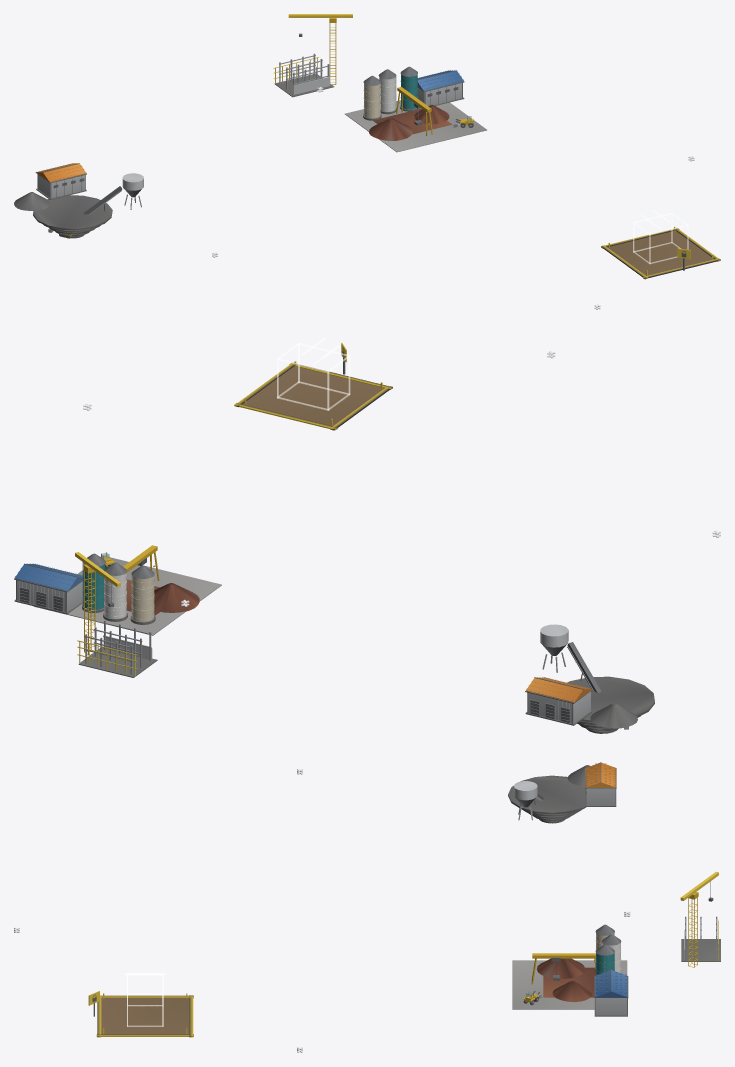
The model's file is Sites_P2.fbx.
3 renders of one model, top to bottom at view 1: azimuth 30°, elevation 25°; view 2: azimuth 150°, elevation 25°; view 3: azimuth 270°, elevation 25°, orthographic. The views are drawn at different scales.
Parts seen in each view (by area): view 1: Site.plant.Pad, Site.Store.Yard, Site.Quarry.Benches, Site.Construction, Site.Quarry.Shed, Site.Store.Shed, Site.Store.Silo0, Site.Store.Pile0, Site.Store.Silo1, Site.plant.Ghost, Site.Crane, Site.Store.Silo2 (+3 smaller); view 2: Site.plant.Pad, Site.Store.Shed, Site.Construction, Site.Quarry.Shed, Site.Store.Yard, Site.Quarry.Benches, Site.Store.Silo0, Site.Store.Silo1, Site.plant.Ghost, Site.Store.Pile0, Site.Crane, Site.Store.Silo2 (+2 smaller); view 3: Site.plant.Pad, Site.Store.Yard, Site.Quarry.Benches, Site.Store.Shed, Site.Quarry.Shed, Site.Construction, Site.Crane, Site.Store.Pile0, Site.Store.Pile1, Site.Quarry.Hopper, Site.Store.Gantry, Site.Store.Silo2.
Boxes of the visible parts, x1=… form: Site.plant.Pad: x1=601, y1=226, x2=720, y2=279; Site.Store.Yard: x1=345, y1=100, x2=486, y2=152; Site.Quarry.Benches: x1=33, y1=195, x2=112, y2=238; Site.Construction: x1=273, y1=53, x2=334, y2=97; Site.Quarry.Shed: x1=35, y1=163, x2=86, y2=199; Site.Store.Shed: x1=417, y1=70, x2=464, y2=106; Site.Store.Silo0: x1=363, y1=75, x2=381, y2=120; Site.Store.Pile0: x1=369, y1=118, x2=412, y2=140; Site.Store.Silo1: x1=378, y1=69, x2=396, y2=114; Site.plant.Ghost: x1=633, y1=209, x2=688, y2=263; Site.Crane: x1=288, y1=14, x2=352, y2=84; Site.Store.Silo2: x1=400, y1=66, x2=417, y2=111; Site.plant.Pad: x1=234, y1=361, x2=392, y2=430; Site.Store.Shed: x1=14, y1=563, x2=83, y2=614; Site.Construction: x1=77, y1=620, x2=157, y2=677; Site.Quarry.Shed: x1=525, y1=677, x2=592, y2=725; Site.Store.Yard: x1=34, y1=557, x2=221, y2=635; Site.Quarry.Benches: x1=567, y1=676, x2=654, y2=733; Site.Store.Silo0: x1=130, y1=565, x2=155, y2=624; Site.Store.Silo1: x1=103, y1=562, x2=127, y2=621; Site.plant.Ghost: x1=277, y1=338, x2=350, y2=410; Site.Store.Pile0: x1=154, y1=583, x2=199, y2=612; Site.Crane: x1=75, y1=552, x2=120, y2=654; Site.Store.Silo2: x1=82, y1=553, x2=105, y2=612; Site.plant.Pad: x1=96, y1=993, x2=193, y2=1037; Site.Store.Yard: x1=512, y1=960, x2=627, y2=1009; Site.Quarry.Benches: x1=508, y1=775, x2=586, y2=823; Site.Store.Shed: x1=594, y1=969, x2=628, y2=1016; Site.Quarry.Shed: x1=585, y1=762, x2=616, y2=806; Site.Construction: x1=681, y1=916, x2=720, y2=961; Site.Crane: x1=680, y1=871, x2=718, y2=967; Site.Store.Pile0: x1=537, y1=958, x2=584, y2=978; Site.Store.Pile1: x1=552, y1=980, x2=592, y2=1001; Site.Quarry.Hopper: x1=513, y1=781, x2=537, y2=820; Site.Store.Gantry: x1=531, y1=953, x2=595, y2=984; Site.Store.Silo2: x1=595, y1=944, x2=614, y2=975.
Bounding box in the file's own units: 31468 × 5080 × 31963.
